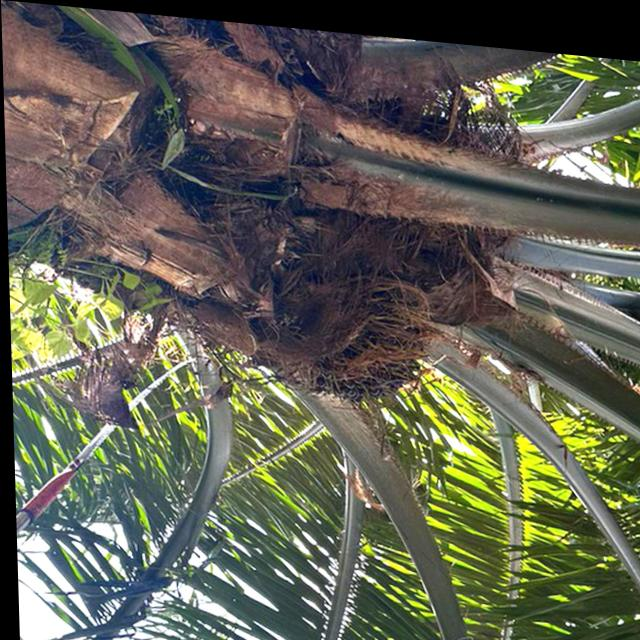unripe: (247, 238, 443, 415)
